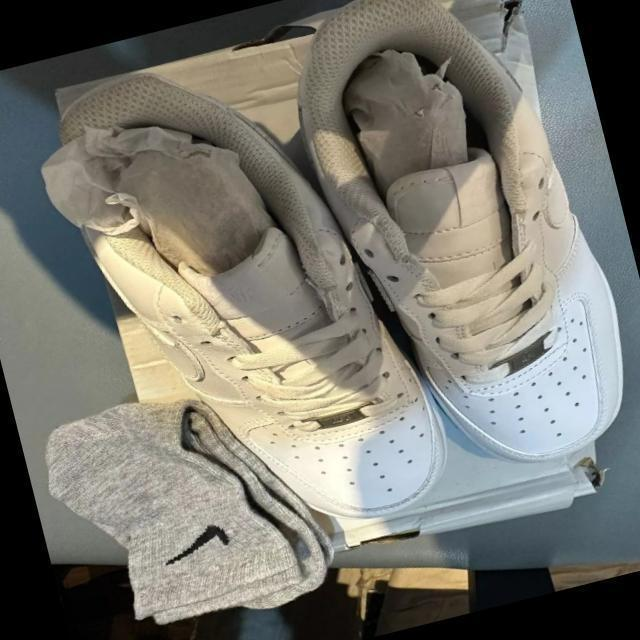nike fake air force: (29, 26, 476, 579), (265, 0, 640, 503)
